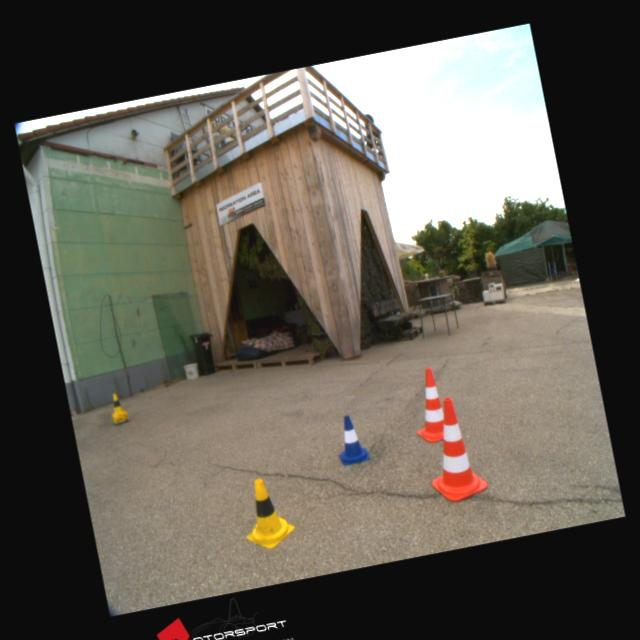blue_cone: (330, 413, 370, 465)
large_orange_cone: (416, 393, 488, 505), (406, 367, 448, 444)
yellow_cone: (236, 473, 298, 552), (108, 392, 126, 416)
